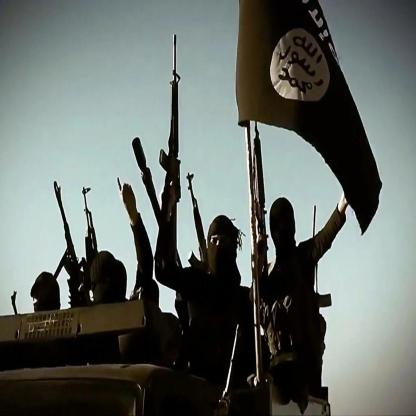rifle: (45, 180, 87, 316), (158, 32, 182, 204), (185, 167, 211, 277), (82, 184, 100, 265)
